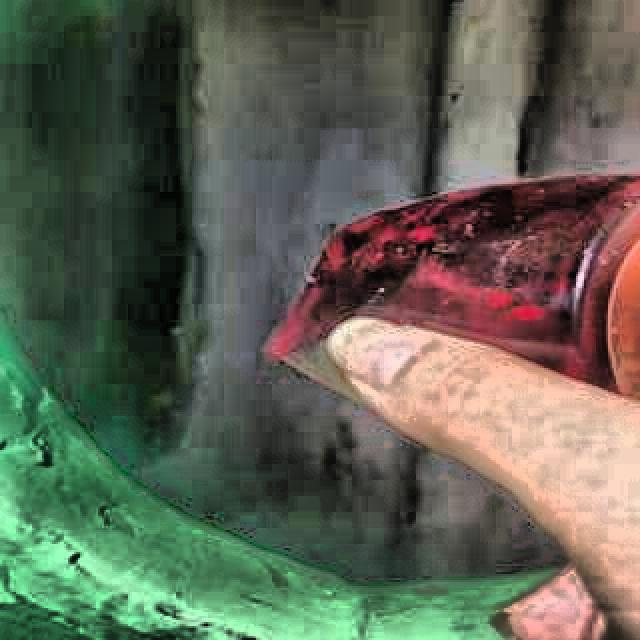glass: (269, 177, 640, 397)
